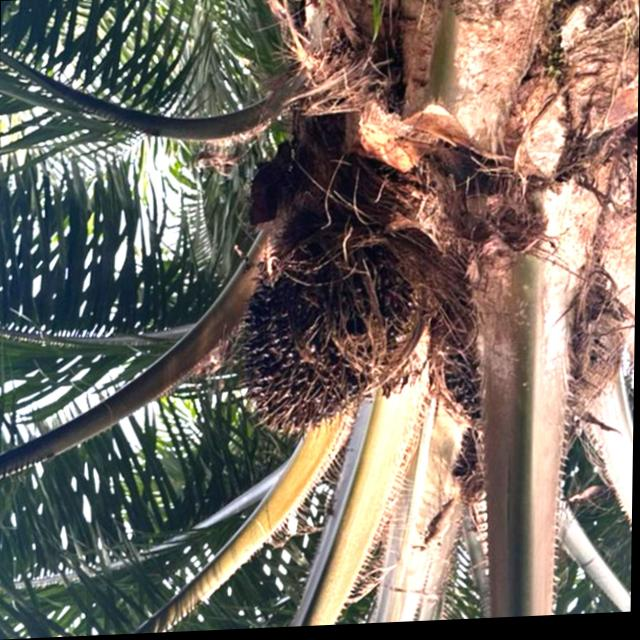almost: (233, 233, 422, 444), (434, 269, 634, 452)
